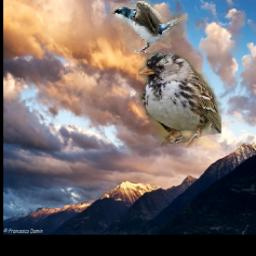Sparrow: (139, 52, 223, 148)
Swallow: (110, 0, 188, 54)
